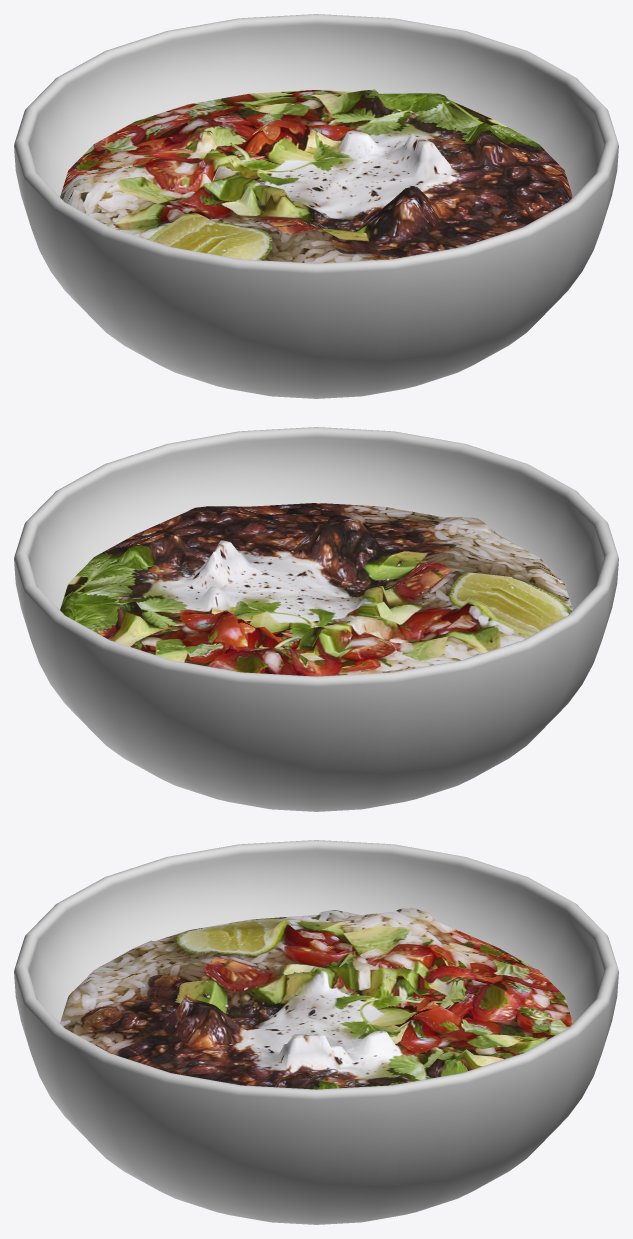
The model's file is bowlBBB.fbx.
The picture shows the model from 3 angles, top to bottom: view 1: azimuth 30°, elevation 25°; view 2: azimuth 150°, elevation 25°; view 3: azimuth 270°, elevation 25°; orthographic projection.
Visible parts, largest first — view 1: Group_001, Group_002; view 2: Group_001, Group_002; view 3: Group_001, Group_002.
Part boxes in pixels (left/top/right/bottom): Group_001: left=14, top=14, right=618, bottom=398; Group_002: left=60, top=89, right=572, bottom=263; Group_001: left=14, top=427, right=618, bottom=811; Group_002: left=60, top=503, right=572, bottom=676; Group_001: left=14, top=840, right=618, bottom=1224; Group_002: left=60, top=907, right=572, bottom=1089.
Size of the model in its own units: 82.98 by 30.68 by 82.98.
